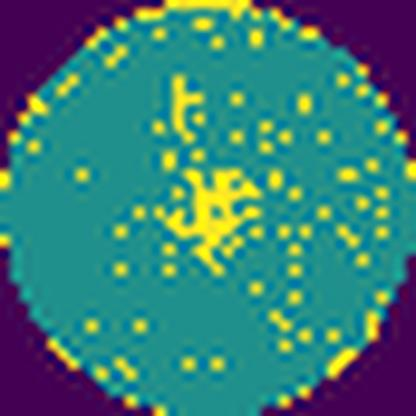Center: (168, 165, 266, 271)
